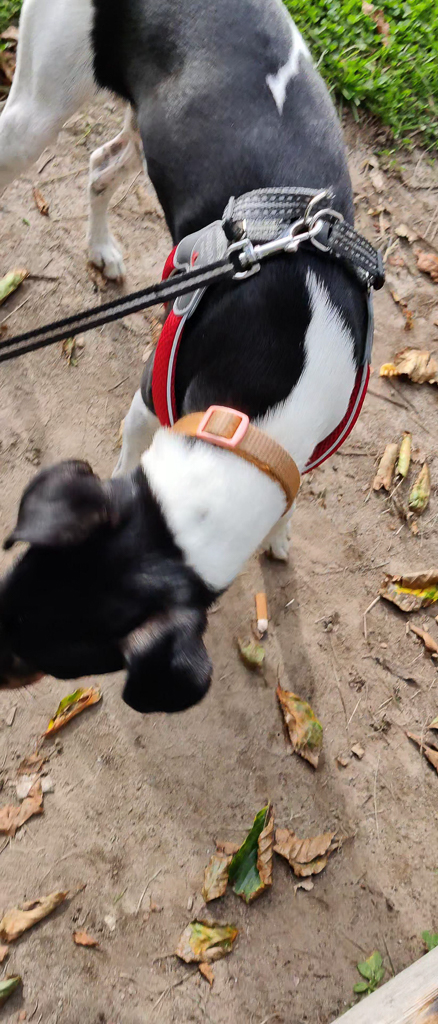Dog: (0, 0, 387, 733)
